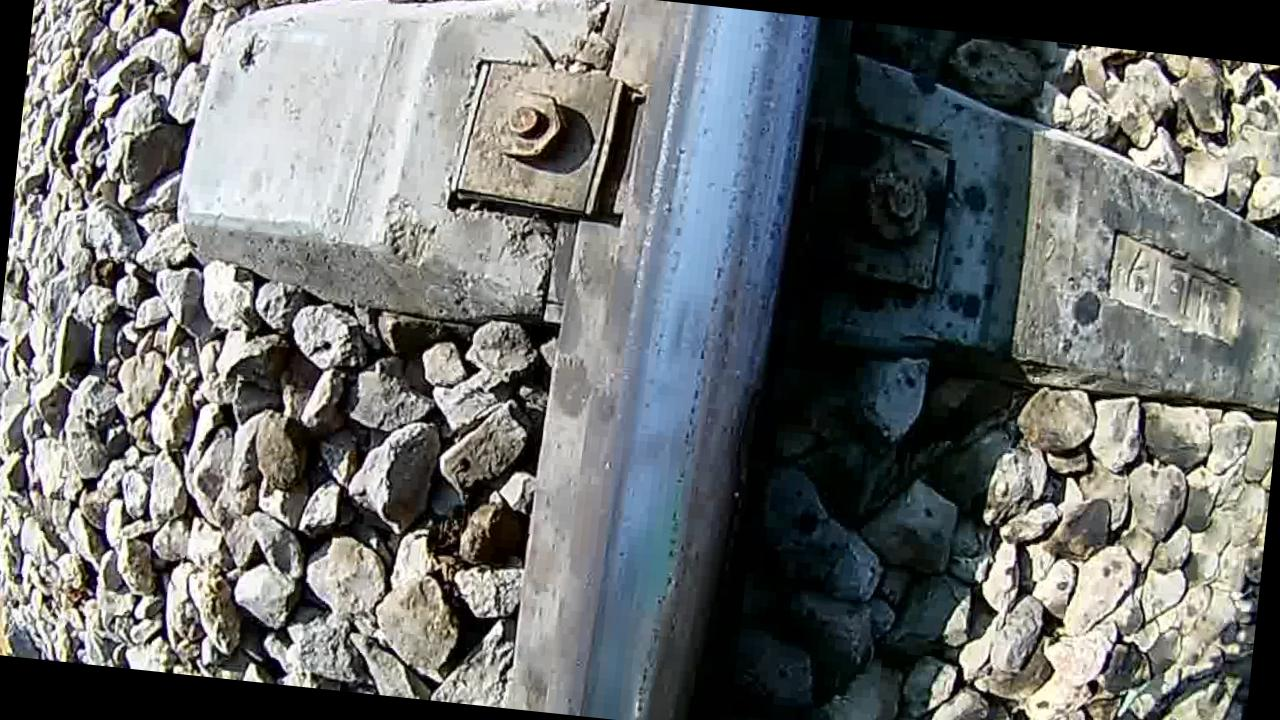clip_missing: (583, 0, 811, 720)
